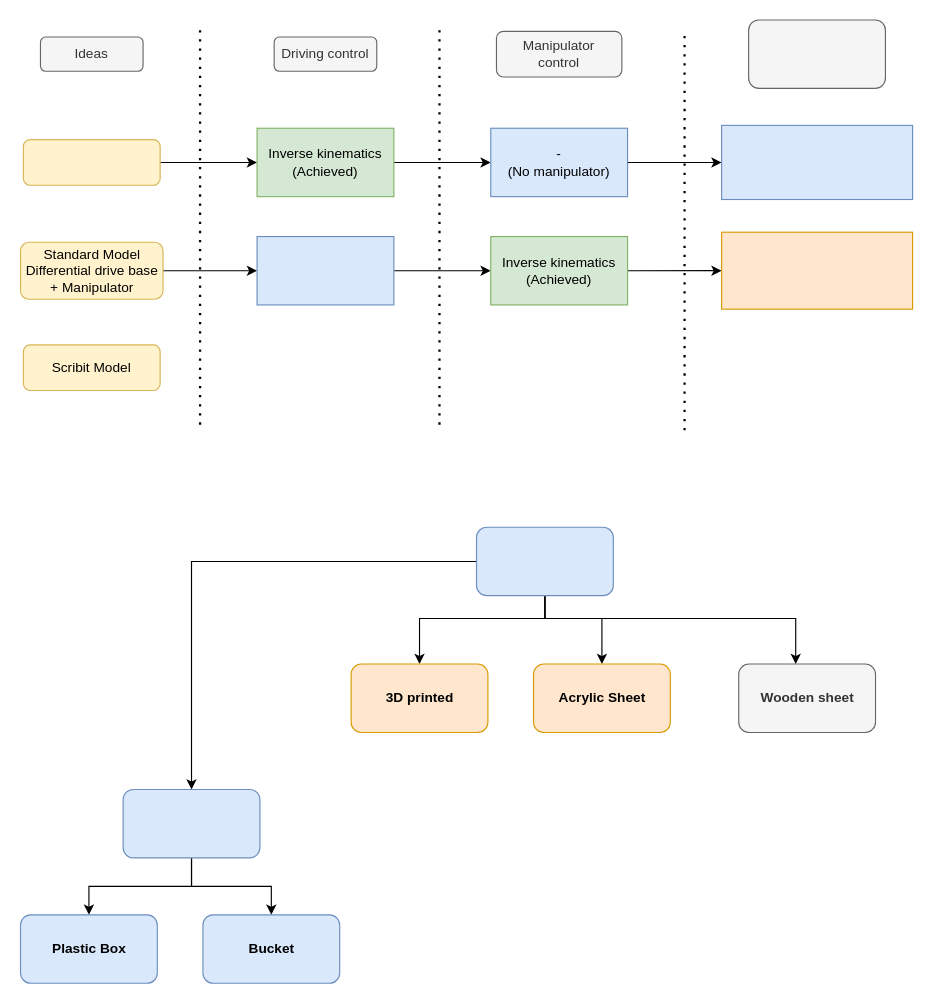
This 933x1003 diagram has some shape labels left out. The centre of each missing label's shape, as x and y in pixels:
Basic: Marker stand model: the point at 91,162
Chasis: the point at 544,561
Forward kinematics: the point at 325,270
Low-Medium (4-6 AA NiMH batteries) (6S1P Configuration) --> 7.2V: the point at 816,161
Medium-High (4-6 AA NiMH batteries) (6S1P Configuration) --> 7.2V: the point at 816,270
Power consumption: the point at 816,53
Quick DIY: the point at 191,823
